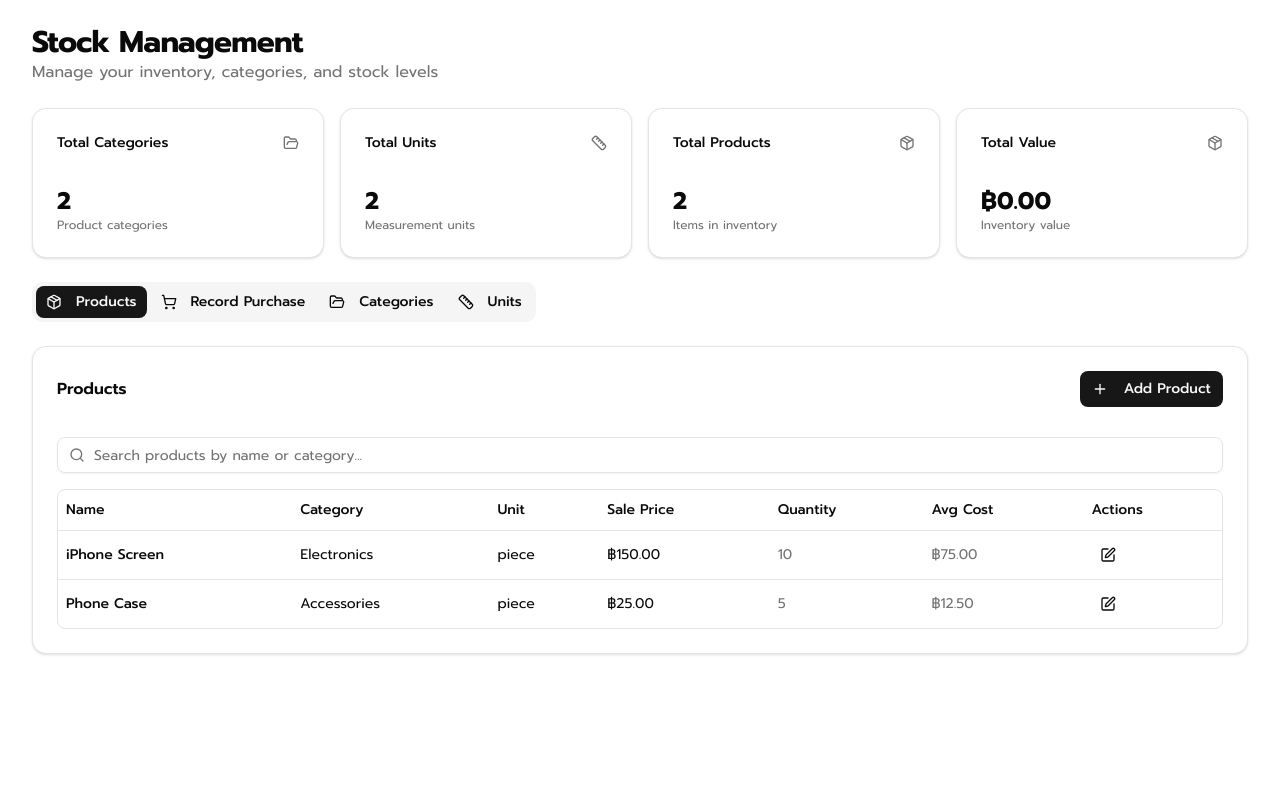
Test: StockPage - Purchase Recording › switches to Purchase tab when clicked
Click the button "Record Purchase": (233,302) [150,286,315,318]
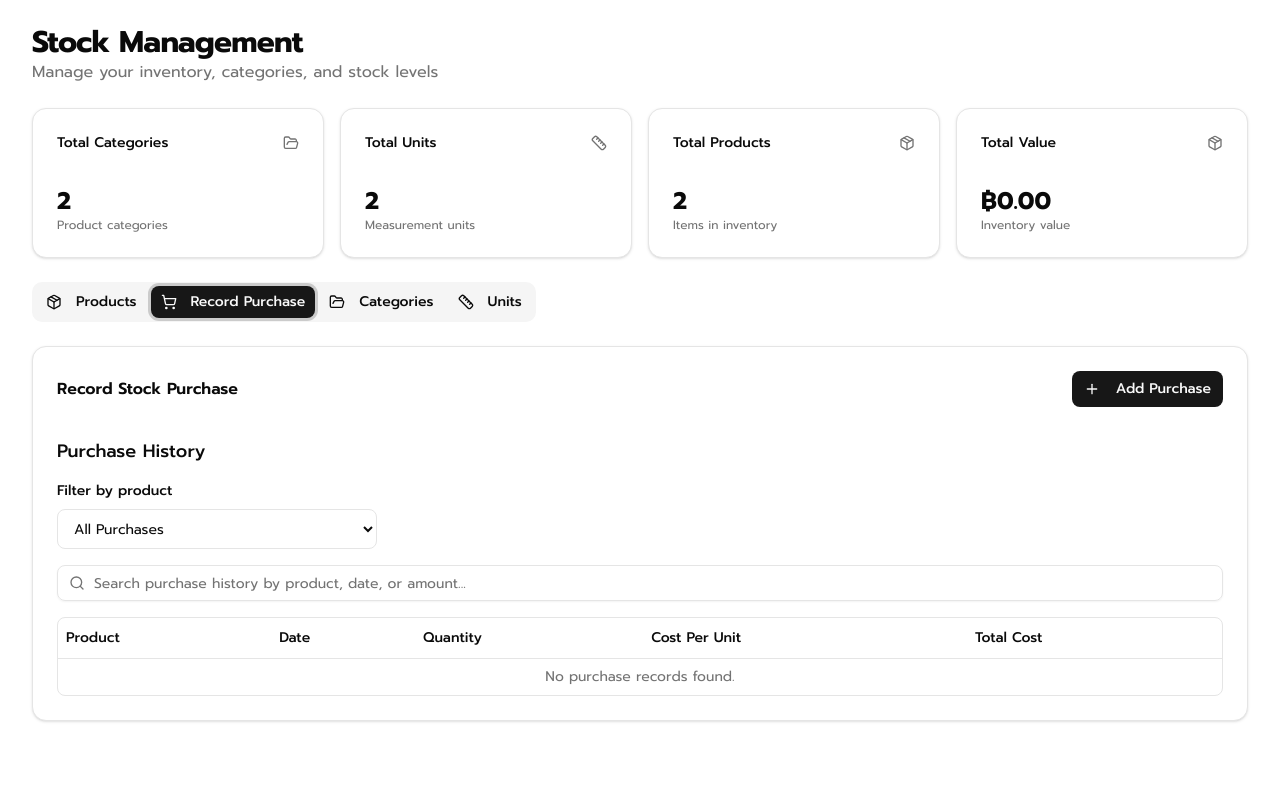
Result: the text "Record Stock Purchase" is shown at [57,381,238,397]
